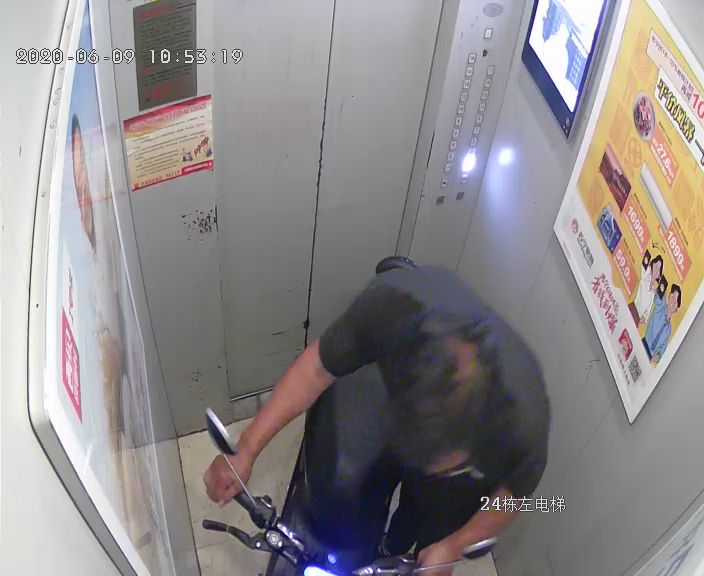Electric-bicycle: (195, 252, 501, 576)
